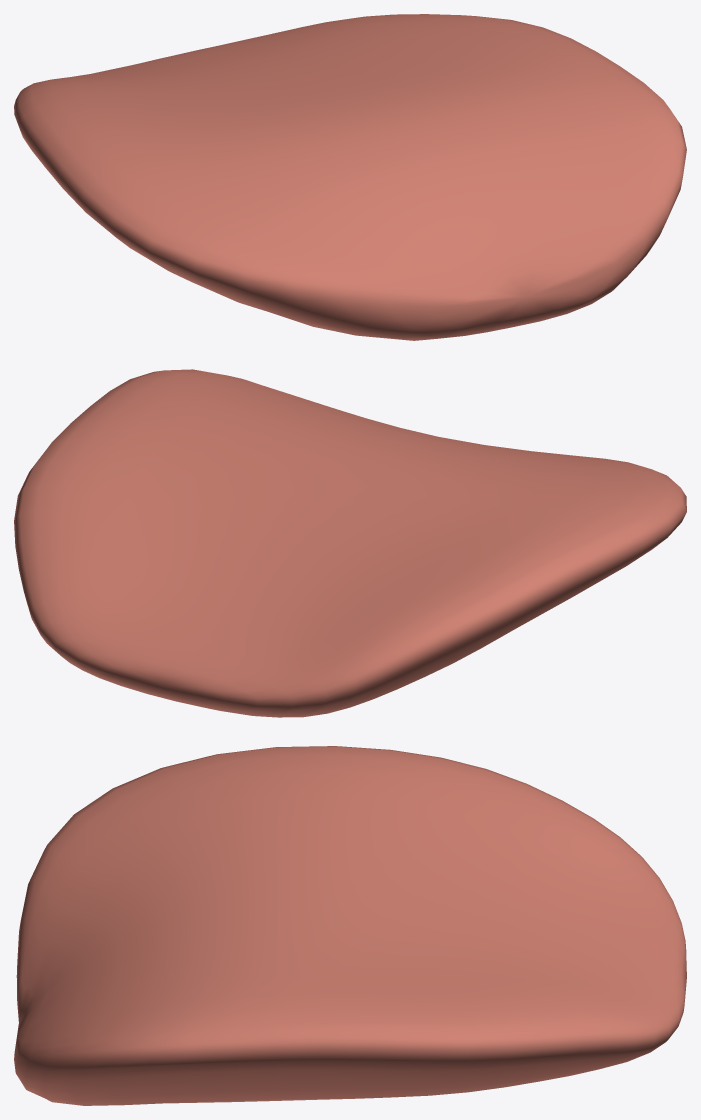
The picture shows the model from 3 angles, top to bottom: view 1: azimuth 30°, elevation 25°; view 2: azimuth 150°, elevation 25°; view 3: azimuth 270°, elevation 25°; orthographic projection. The views are drawn at different scales.
Visible parts, largest first — view 1: 右侧髌下皮下囊; view 2: 右侧髌下皮下囊; view 3: 右侧髌下皮下囊.
Boxes of the visible parts, x1,y1,x2,y2 form: 右侧髌下皮下囊: (14, 14, 686, 340); 右侧髌下皮下囊: (14, 369, 686, 717); 右侧髌下皮下囊: (14, 746, 686, 1105).
Size of the model in its own units: 0.0348 by 0.00954 by 0.0341.
